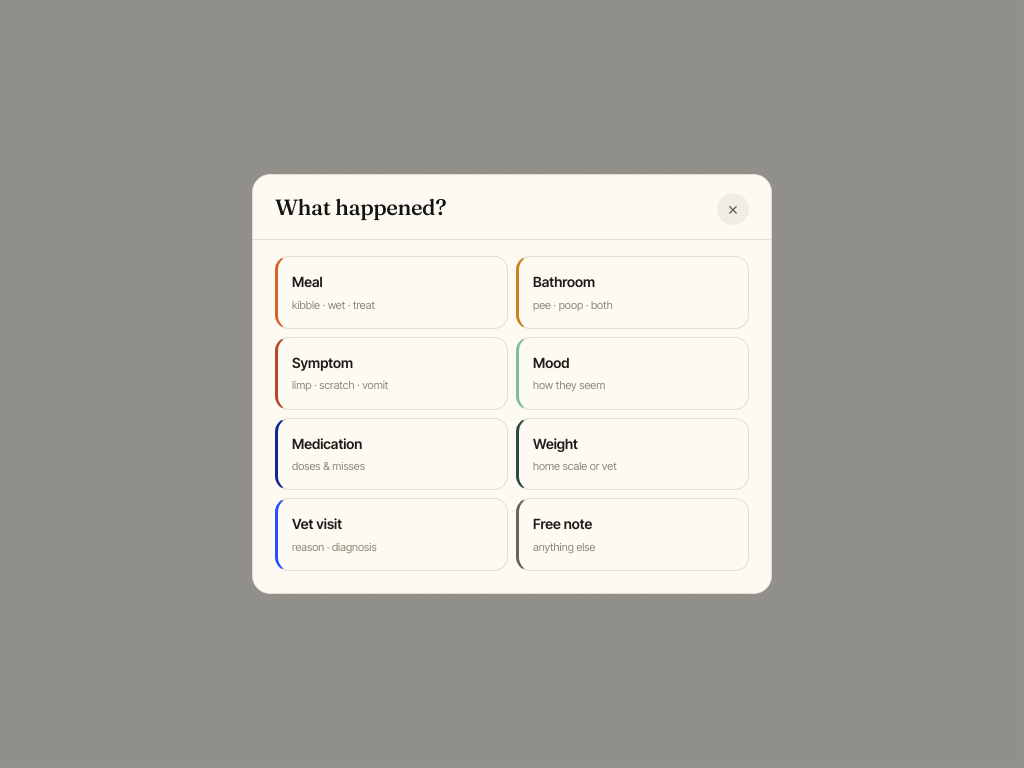
QuickAddModal type picker › opens the matching form when a tile is picked
What coordinates should you click on to do the following:
click the button "Mood how they seem"
I would click on:
 (632, 373)
Its box is [516,337,749,410].
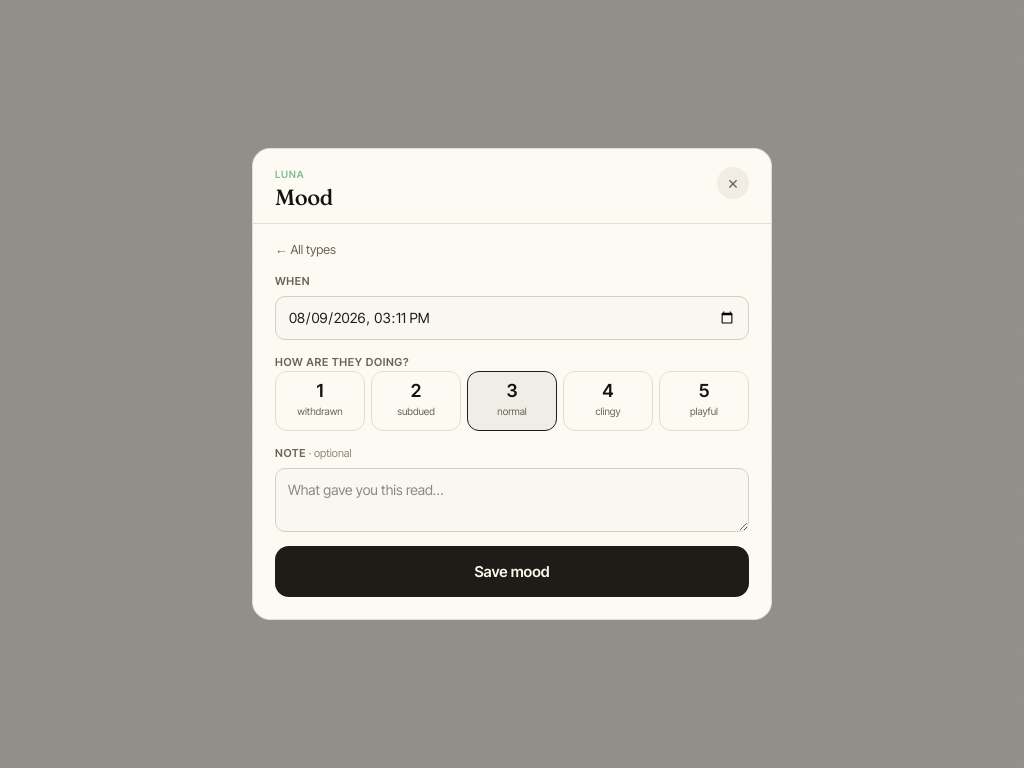
Now the heading "Mood" is shown, box [275,185,333,209]
Now the button "Save mood" is shown, box [275,546,749,597]
